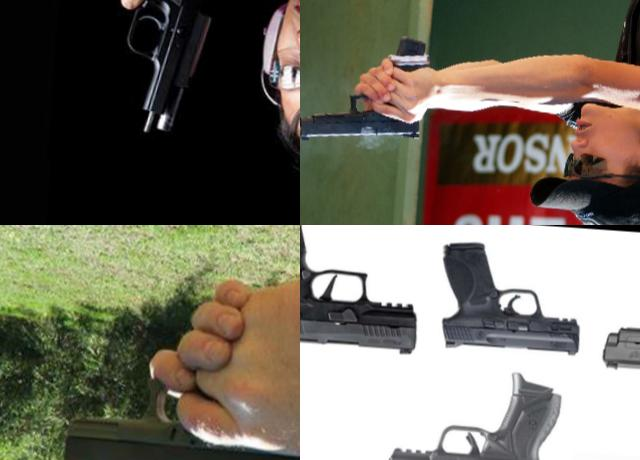handgun: (53, 335, 300, 460), (432, 235, 587, 357), (111, 0, 246, 140), (380, 359, 566, 460), (300, 25, 435, 151), (300, 225, 424, 357), (596, 242, 640, 384)
